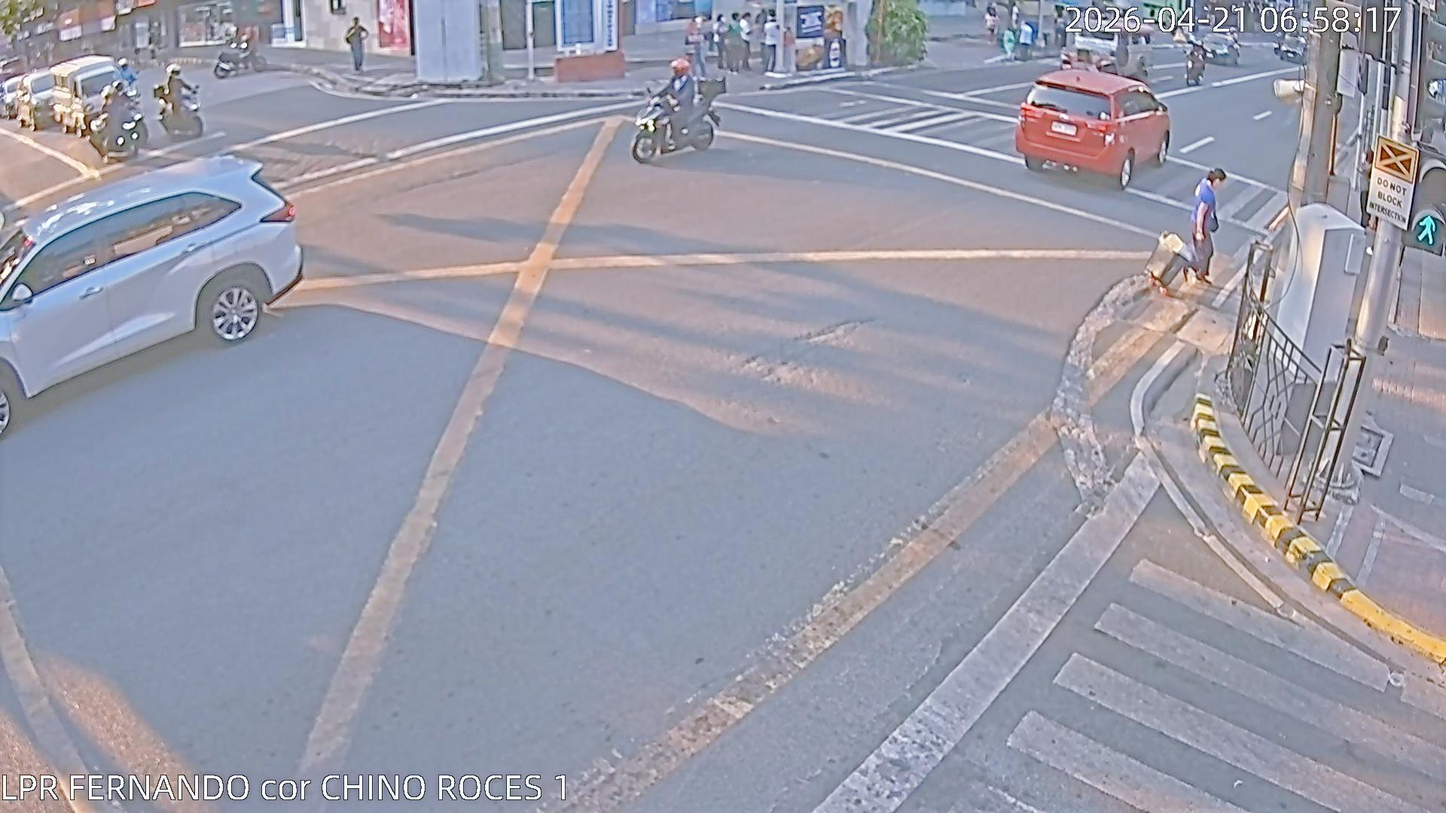Car: (2, 154, 316, 451), (1014, 67, 1167, 190), (50, 57, 127, 129), (11, 69, 59, 129), (1199, 27, 1240, 67), (0, 73, 26, 119), (1283, 36, 1306, 65)
Motor: (632, 76, 723, 163), (87, 87, 148, 157), (154, 78, 205, 139), (214, 38, 270, 79), (115, 57, 144, 111), (1182, 40, 1213, 90), (1271, 32, 1283, 56)
